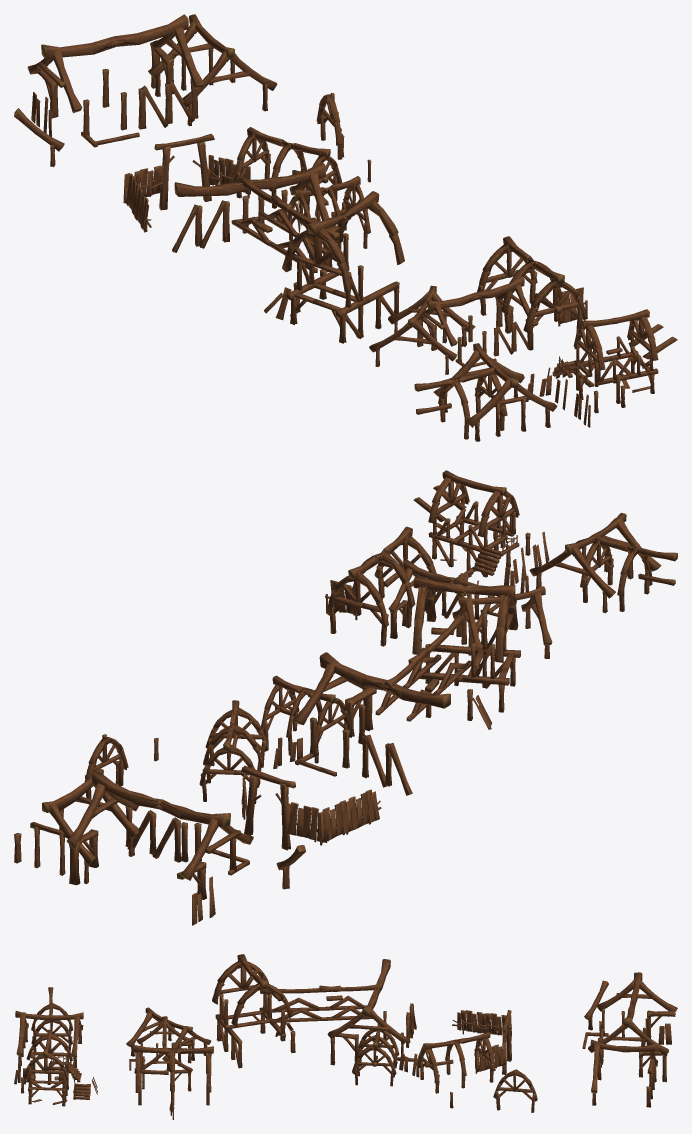
The model's file is WoodBlock4.FBX.
The picture shows the model from 3 angles, top to bottom: view 1: azimuth 30°, elevation 25°; view 2: azimuth 150°, elevation 25°; view 3: azimuth 270°, elevation 25°; orthographic projection. The views are drawn at different scales.
Visible parts, largest first — view 1: Object4554; view 2: Object4554; view 3: Object4554.
Part boxes in pixels (<box>): Object4554: <box>14,14,677,441</box>; Object4554: <box>14,470,677,925</box>; Object4554: <box>14,954,677,1119</box>.
Size of the model in its own units: 2790 by 1248 by 7951.
